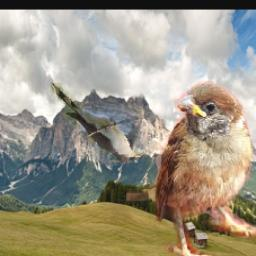Cuckoo: (50, 84, 143, 164)
Sparrow: (124, 82, 256, 256)
